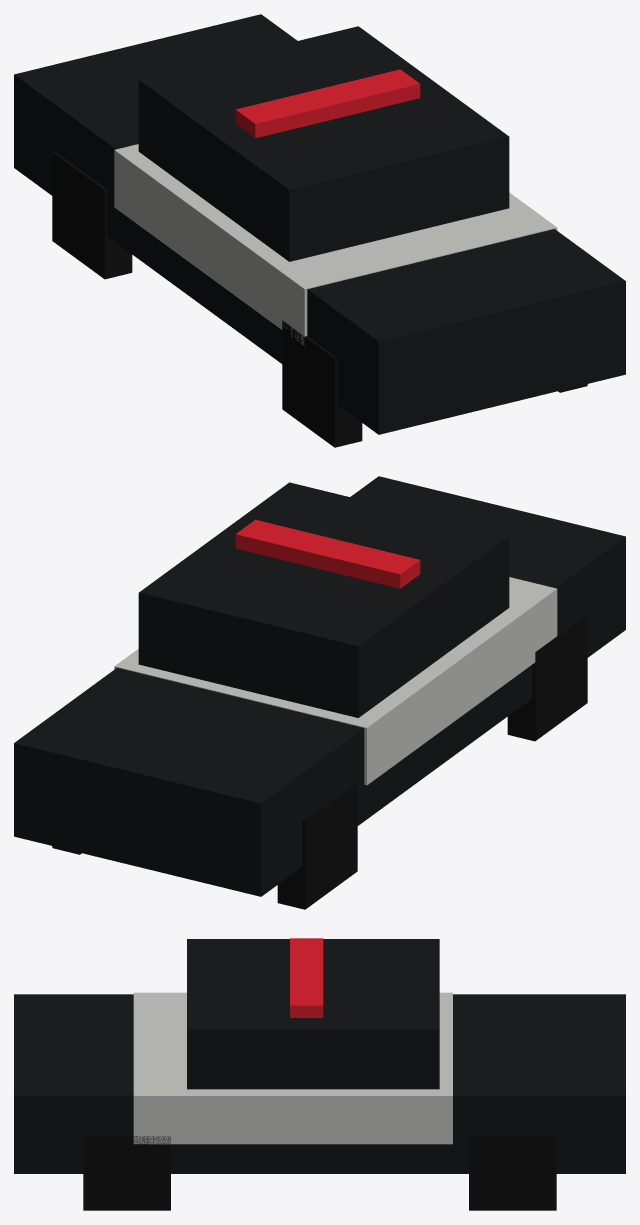
The model's file is vehicle_police_cruiser.glb.
The picture shows the model from 3 angles, top to bottom: view 1: azimuth 30°, elevation 25°; view 2: azimuth 150°, elevation 25°; view 3: azimuth 270°, elevation 25°; orthographic projection. The views are drawn at different scales.
Visible parts, largest first — view 1: body, body_glow; view 2: body, body_glow; view 3: body, body_glow.
Part boxes in pixels (bbox=[...]): body: bbox=[14, 14, 625, 447]; body_glow: bbox=[235, 69, 420, 138]; body: bbox=[14, 476, 625, 909]; body_glow: bbox=[235, 519, 420, 588]; body: bbox=[14, 939, 625, 1210]; body_glow: bbox=[290, 938, 323, 1017].
Size of the model in its own units: 1.84 by 1.55 by 4.6.
